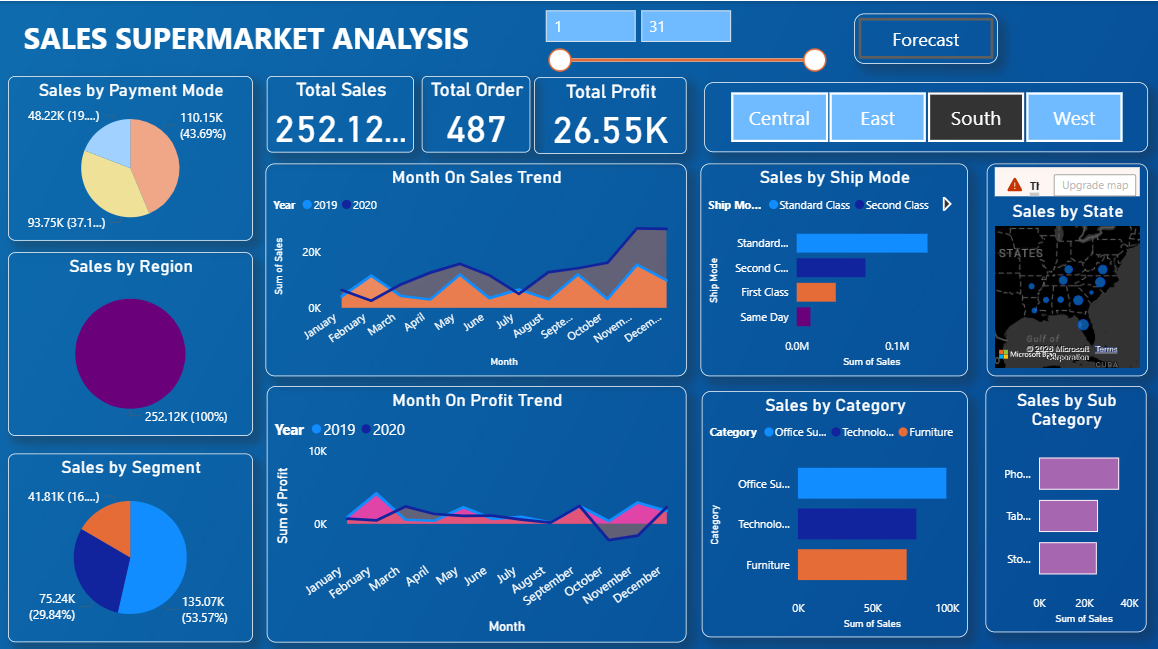

Layout of this report page (visuals, bound fields, positions):
{"tool":"powerbi","page":{"name":"Overview","canvas":[1280,720],"ordinal":0},"visuals":[{"type":"textbox","box":[23.3,13.7,517.3,54.9],"z":0},{"type":"card","title":"Total Sales","fields":{"Values":["Sum(Sales_DataSet_pro_2.Sales)"]},"box":[295,82.3,161.9,83.7],"z":1000},{"type":"card","title":"Total Order","fields":{"Values":["Count(Sales_DataSet_pro_2.Order ID)"]},"box":[465.2,82.3,119.4,83.7],"z":2000},{"type":"card","title":"Total Profit","fields":{"Values":["Sum(Sales_DataSet_pro_2.Profit)"]},"box":[588.7,83.7,167.4,83.7],"z":3000},{"type":"pieChart","title":"Sales by Payment Mode","fields":{"Category":["Sales_DataSet_pro_2.Payment Mode"],"Y":["Sum(Sales_DataSet_pro_2.Sales)"]},"box":[11,82.3,269,181.1],"z":4000},{"type":"pieChart","title":"Sales by Segment","fields":{"Category":["Sales_DataSet_pro_2.Segment"],"Y":["Sum(Sales_DataSet_pro_2.Sales)"]},"box":[11,496.7,269,207.2],"z":5000},{"type":"pieChart","title":"Sales by Region","fields":{"Category":["Sales_DataSet_pro_2.Region"],"Y":["Sum(Sales_DataSet_pro_2.Sales)"]},"box":[11,275.8,269,201.7],"z":6000},{"type":"areaChart","title":"Month On Sales Trend","fields":{"Category":["Sales_DataSet_pro_2.Order Date.Variation.Date Hierarchy.Year","Sales_DataSet_pro_2.Order Date.Variation.Date Hierarchy.Quarter","Sales_DataSet_pro_2.Order Date.Variation.Date Hierarchy.Month","Sales_DataSet_pro_2.Order Date.Variation.Date Hierarchy.Day"],"Y":["Sum(Sales_DataSet_pro_2.Sales)"],"Series":["Sales_DataSet_pro_2.Order Date.Variation.Date Hierarchy.Year"]},"box":[293.7,178.4,462.4,233.3],"z":7000},{"type":"areaChart","title":"Month On Profit Trend","fields":{"Category":["Sales_DataSet_pro_2.Order Date.Variation.Date Hierarchy.Month"],"Y":["Sum(Sales_DataSet_pro_2.Profit)"],"Series":["Sales_DataSet_pro_2.Order Date.Variation.Date Hierarchy.Year"]},"box":[295,422.6,461.1,281.3],"z":8000},{"type":"barChart","title":"Sales by Ship Mode","fields":{"Y":["Sum(Sales_DataSet_pro_2.Sales)"],"Series":["Sales_DataSet_pro_2.Ship Mode"],"Category":["Sales_DataSet_pro_2.Ship Mode"]},"box":[771.2,178.4,293.7,233.3],"z":9000},{"type":"barChart","title":"Sales by Category","fields":{"Y":["Sum(Sales_DataSet_pro_2.Sales)"],"Category":["Sales_DataSet_pro_2.Category"],"Series":["Sales_DataSet_pro_2.Category"]},"box":[772.6,428.1,292.3,270.3],"z":10000},{"type":"map","title":"Sales by State","fields":{"Category":["Sales_DataSet_pro_2.State"],"Size":["Sum(Sales_DataSet_pro_2.Sales)"]},"box":[1085.4,178.4,177,233.3],"z":11000},{"type":"barChart","title":"Sales by Sub  Category","fields":{"Y":["Sum(Sales_DataSet_pro_2.Sales)"],"Category":["Sales_DataSet_pro_2.Sub-Category"]},"box":[1084.1,422.6,177,270.3],"z":12000},{"type":"slicer","fields":{"Values":["Sales_DataSet_pro_2.Region"]},"box":[775.3,89.2,487.1,76.8],"z":13000},{"type":"slicer","fields":{"Values":["Sales_DataSet_pro_2.Order Date.Variation.Date Hierarchy.Day"]},"box":[588.7,0,329.3,105.7],"z":14000},{"type":"actionButton","box":[940,13.7,157.8,54.9],"z":15000}]}

Visuals, with their boxes in screenshot pixels (x1, y1, x2, y2), scaled from the page's 1280x720 canvas onto the 1158x649 screenshot:
textbox: 21, 12, 489, 62
"Total Sales" card: 267, 74, 413, 150
"Total Order" card: 421, 74, 529, 150
"Total Profit" card: 533, 75, 684, 151
"Sales by Payment Mode" pieChart: 10, 74, 253, 237
"Sales by Segment" pieChart: 10, 448, 253, 634
"Sales by Region" pieChart: 10, 249, 253, 430
"Month On Sales Trend" areaChart: 266, 161, 684, 371
"Month On Profit Trend" areaChart: 267, 381, 684, 634
"Sales by Ship Mode" barChart: 698, 161, 963, 371
"Sales by Category" barChart: 699, 386, 963, 630
"Sales by State" map: 982, 161, 1142, 371
"Sales by Sub  Category" barChart: 981, 381, 1141, 625
slicer - Sales_DataSet_pro_2.Region: 701, 80, 1142, 150
slicer - Sales_DataSet_pro_2.Order Date.Variation.Date Hierarchy.Day: 533, 0, 831, 95
actionButton: 850, 12, 993, 62
